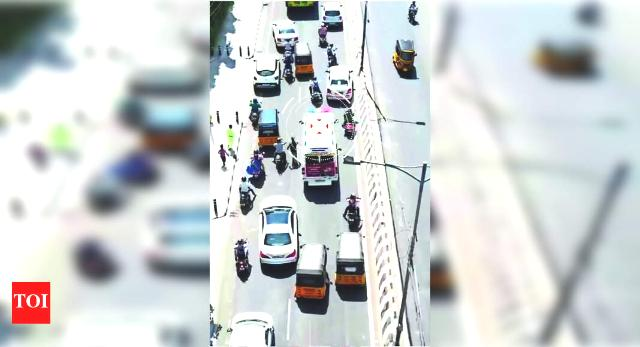ambulance: (295, 103, 344, 192)
